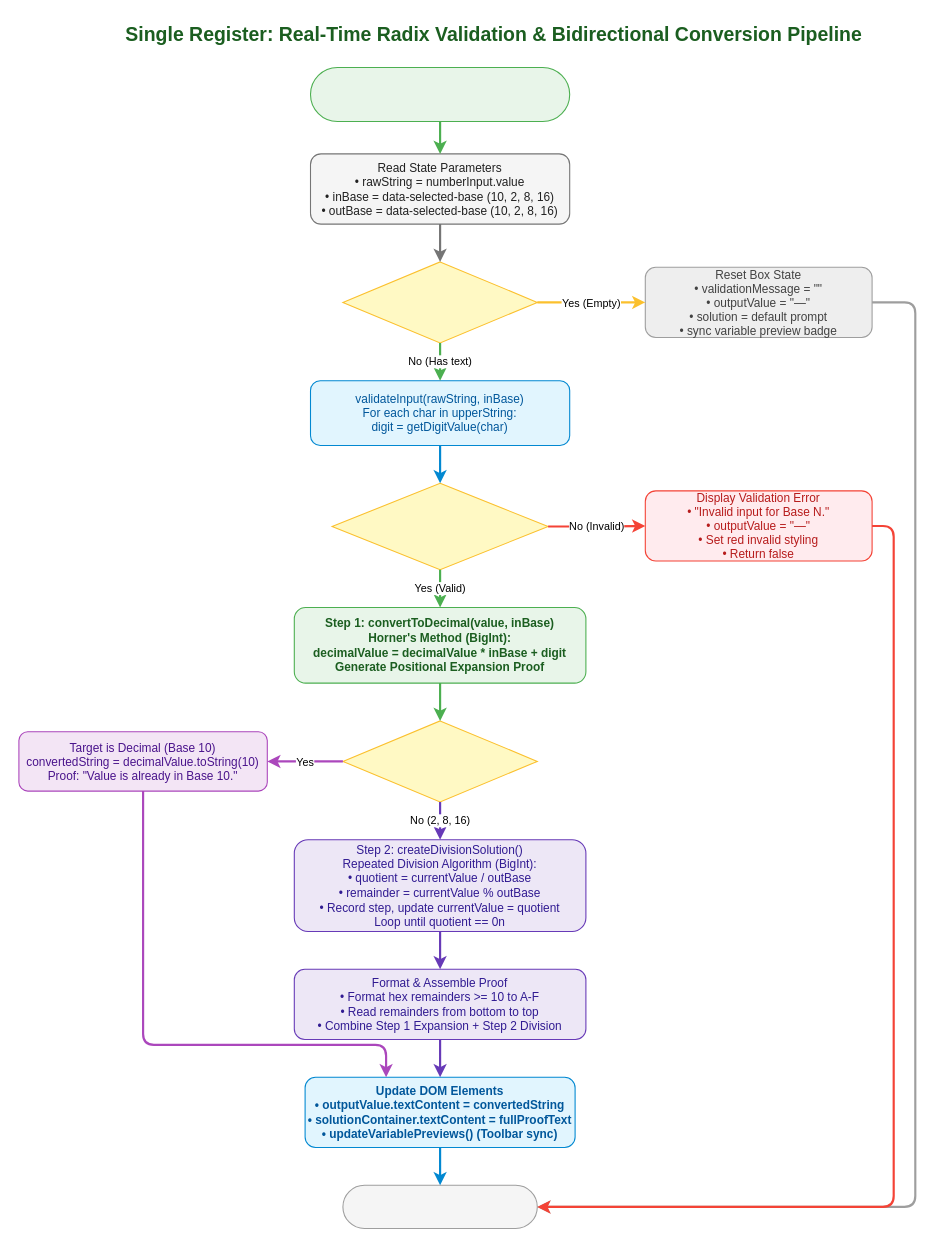
Some shapes in this 944 by 1247 pixel diagram are drawn without their labels. The shapes that lost their labels are listed below. From the top down, each one's centre as x and y in pixels, then its label:
At (439,94): "Event Triggered (User input in Box or base button click)".
At (439,302): "Is rawString Empty?".
At (439,526): "All digits within 0 <= digit < inBase?".
At (439,761): "Is Target Base == 10?".
At (439,1206): "Register State Updated".
